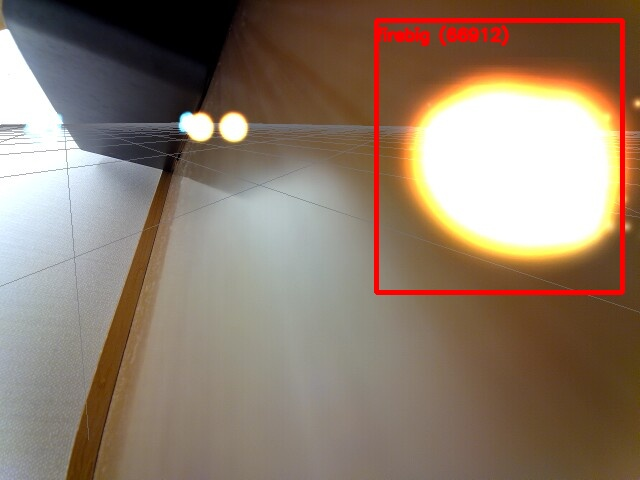firebig: (376, 20, 622, 292)
